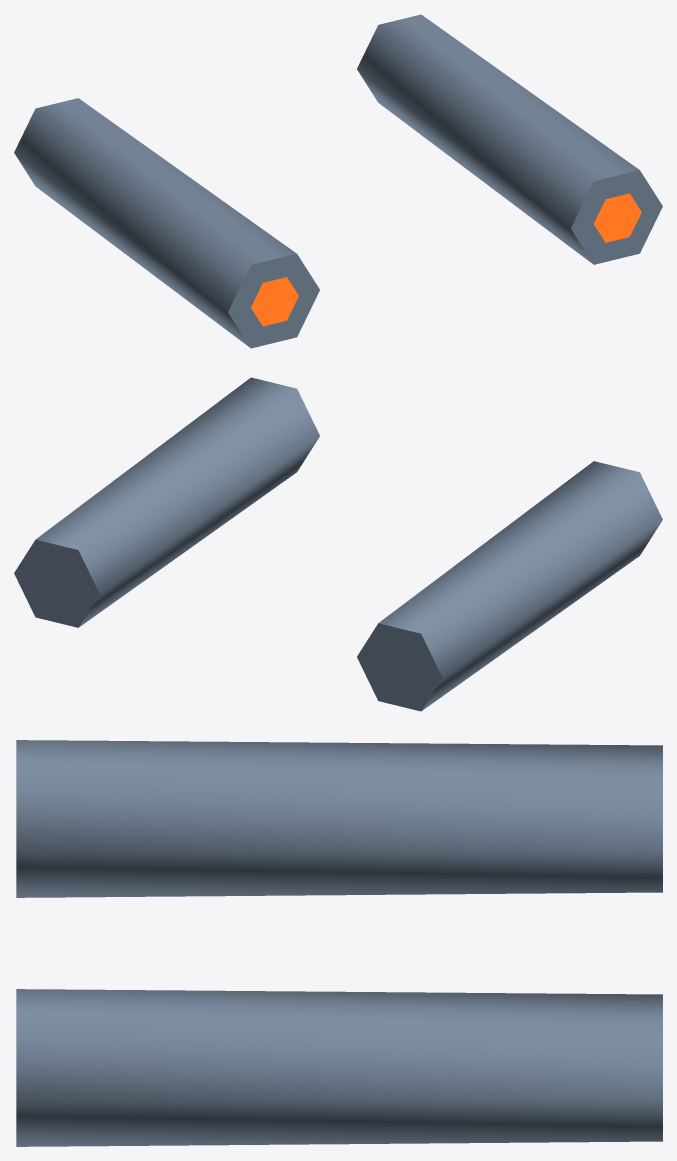
Rendered from player_upgrade_afterburner.glb.
The picture shows the model from 3 angles, top to bottom: view 1: azimuth 30°, elevation 25°; view 2: azimuth 150°, elevation 25°; view 3: azimuth 270°, elevation 25°; orthographic projection. The views are drawn at different scales.
Parts seen in each view (by area): view 1: PLAYER UPGRADE // AFTERBURNER; view 2: PLAYER UPGRADE // AFTERBURNER; view 3: PLAYER UPGRADE // AFTERBURNER.
Boxes of the visible parts, bbox=[...] form: PLAYER UPGRADE // AFTERBURNER: bbox=[14, 14, 662, 348]; PLAYER UPGRADE // AFTERBURNER: bbox=[14, 377, 662, 711]; PLAYER UPGRADE // AFTERBURNER: bbox=[16, 740, 662, 1146].
Bounding box in the file's own units: 1.83 × 0.3353 × 1.59.
